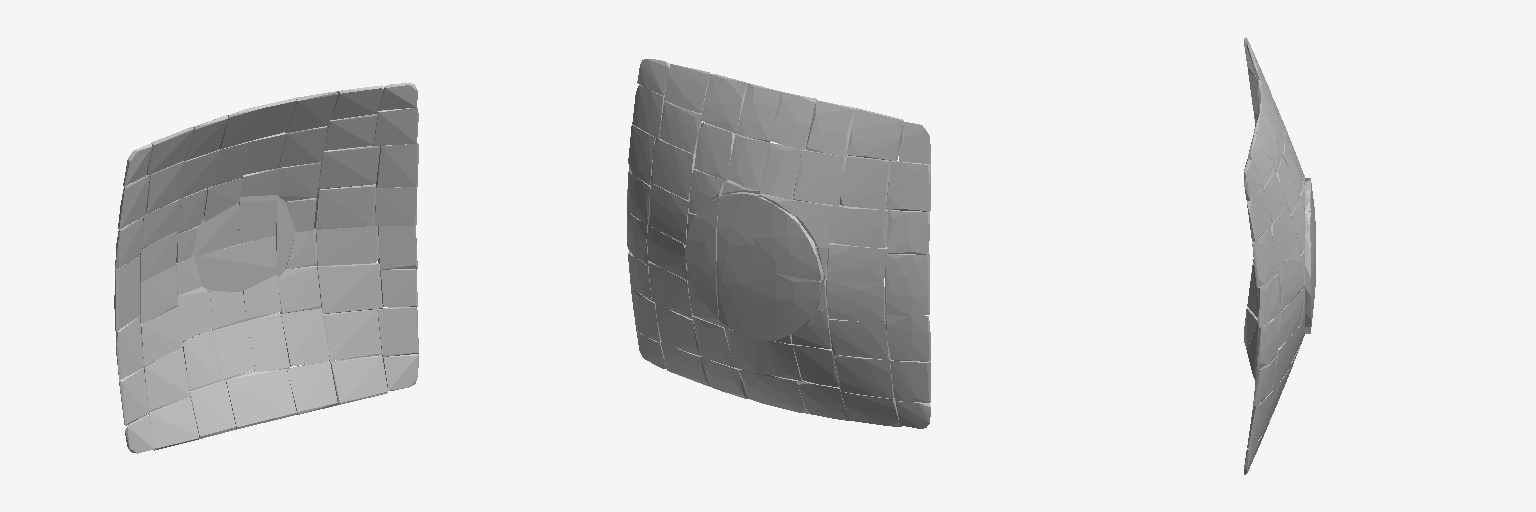
File: plate_vhacd.obj
The picture shows the model from 3 angles: view 1: azimuth 30°, elevation 25°; view 2: azimuth 150°, elevation 25°; view 3: azimuth 270°, elevation 25°; orthographic projection.
Parts seen in each view (by area): view 1: convex_12, convex_9, convex_26, convex_23, convex_52, convex_27, convex_53, convex_18, convex_22, convex_3, convex_16, convex_17 (+28 smaller); view 2: convex_12, convex_34, convex_5, convex_21, convex_45, convex_41, convex_38, convex_7, convex_40, convex_33, convex_37, convex_43 (+28 smaller); view 3: convex_21, convex_52, convex_55, convex_53, convex_54, convex_29, convex_58, convex_27, convex_26, convex_57, convex_51, convex_56 (+3 smaller).
Boxes of the visible parts, x1=… form: convex_12: x1=194, y1=236, x2=276, y2=291; convex_9: x1=225, y1=369, x2=296, y2=429; convex_26: x1=317, y1=263, x2=382, y2=313; convex_23: x1=323, y1=309, x2=381, y2=360; convex_52: x1=314, y1=184, x2=375, y2=229; convex_27: x1=316, y1=226, x2=378, y2=265; convex_53: x1=318, y1=146, x2=379, y2=189; convex_18: x1=280, y1=308, x2=329, y2=366; convex_22: x1=330, y1=355, x2=387, y2=404; convex_3: x1=143, y1=348, x2=190, y2=412; convex_16: x1=287, y1=360, x2=337, y2=414; convex_17: x1=247, y1=313, x2=289, y2=371; convex_12: x1=717, y1=259, x2=821, y2=340; convex_34: x1=754, y1=197, x2=823, y2=281; convex_5: x1=885, y1=254, x2=929, y2=315; convex_21: x1=685, y1=197, x2=718, y2=319; convex_45: x1=717, y1=192, x2=759, y2=267; convex_41: x1=793, y1=150, x2=846, y2=205; convex_38: x1=840, y1=156, x2=890, y2=209; convex_7: x1=826, y1=279, x2=885, y2=322; convex_40: x1=846, y1=108, x2=903, y2=160; convex_33: x1=829, y1=205, x2=887, y2=247; convex_37: x1=886, y1=161, x2=930, y2=211; convex_43: x1=806, y1=100, x2=856, y2=156; convex_21: x1=1305, y1=211, x2=1314, y2=333; convex_52: x1=1278, y1=246, x2=1303, y2=310; convex_55: x1=1252, y1=227, x2=1277, y2=287; convex_53: x1=1271, y1=204, x2=1298, y2=268; convex_54: x1=1257, y1=274, x2=1280, y2=327; convex_29: x1=1257, y1=314, x2=1279, y2=369; convex_58: x1=1247, y1=186, x2=1271, y2=241; convex_27: x1=1278, y1=289, x2=1303, y2=347; convex_26: x1=1271, y1=325, x2=1300, y2=391; convex_57: x1=1248, y1=133, x2=1273, y2=187; convex_51: x1=1254, y1=113, x2=1282, y2=171; convex_56: x1=1263, y1=168, x2=1286, y2=222.
Bounding box in the file's own units: 369 × 369 × 76.13.